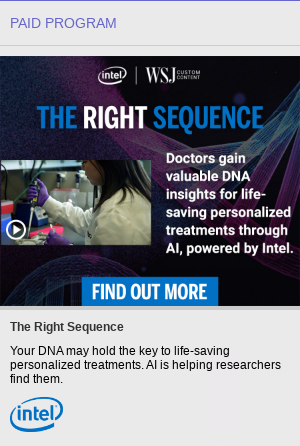fake_button: (74, 269, 225, 314)
